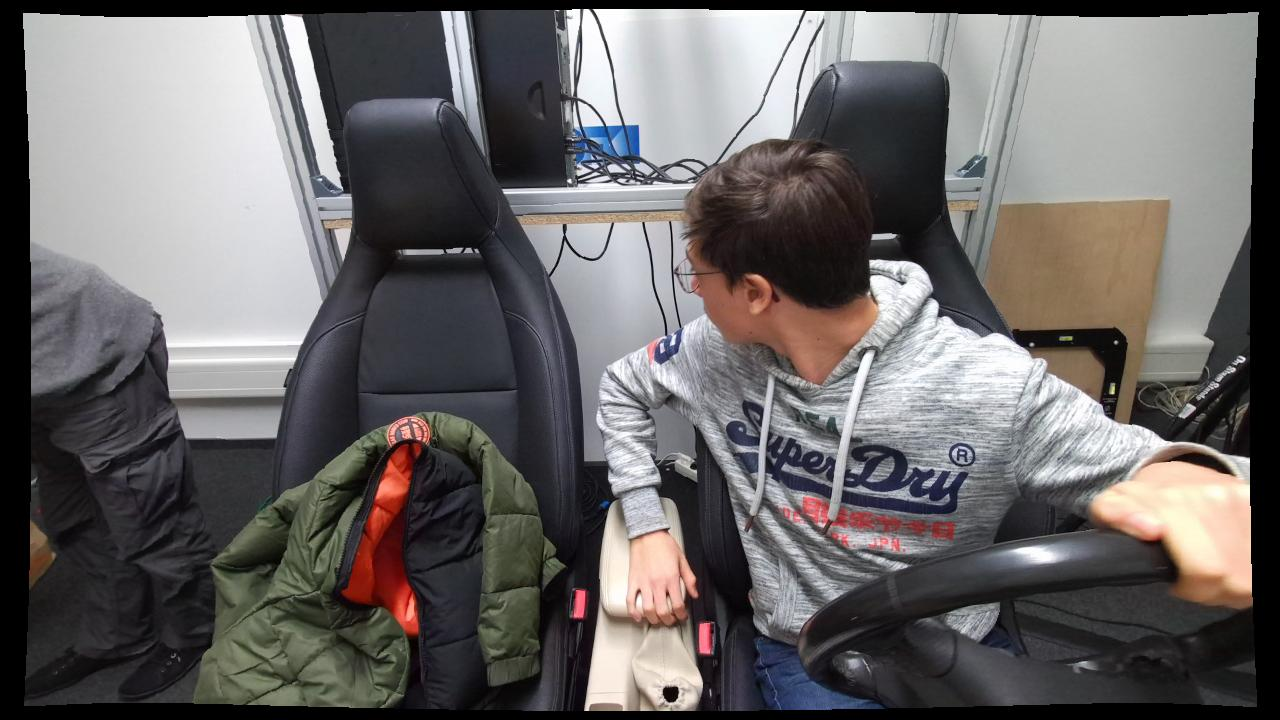Distracted: (624, 122, 1065, 711)
